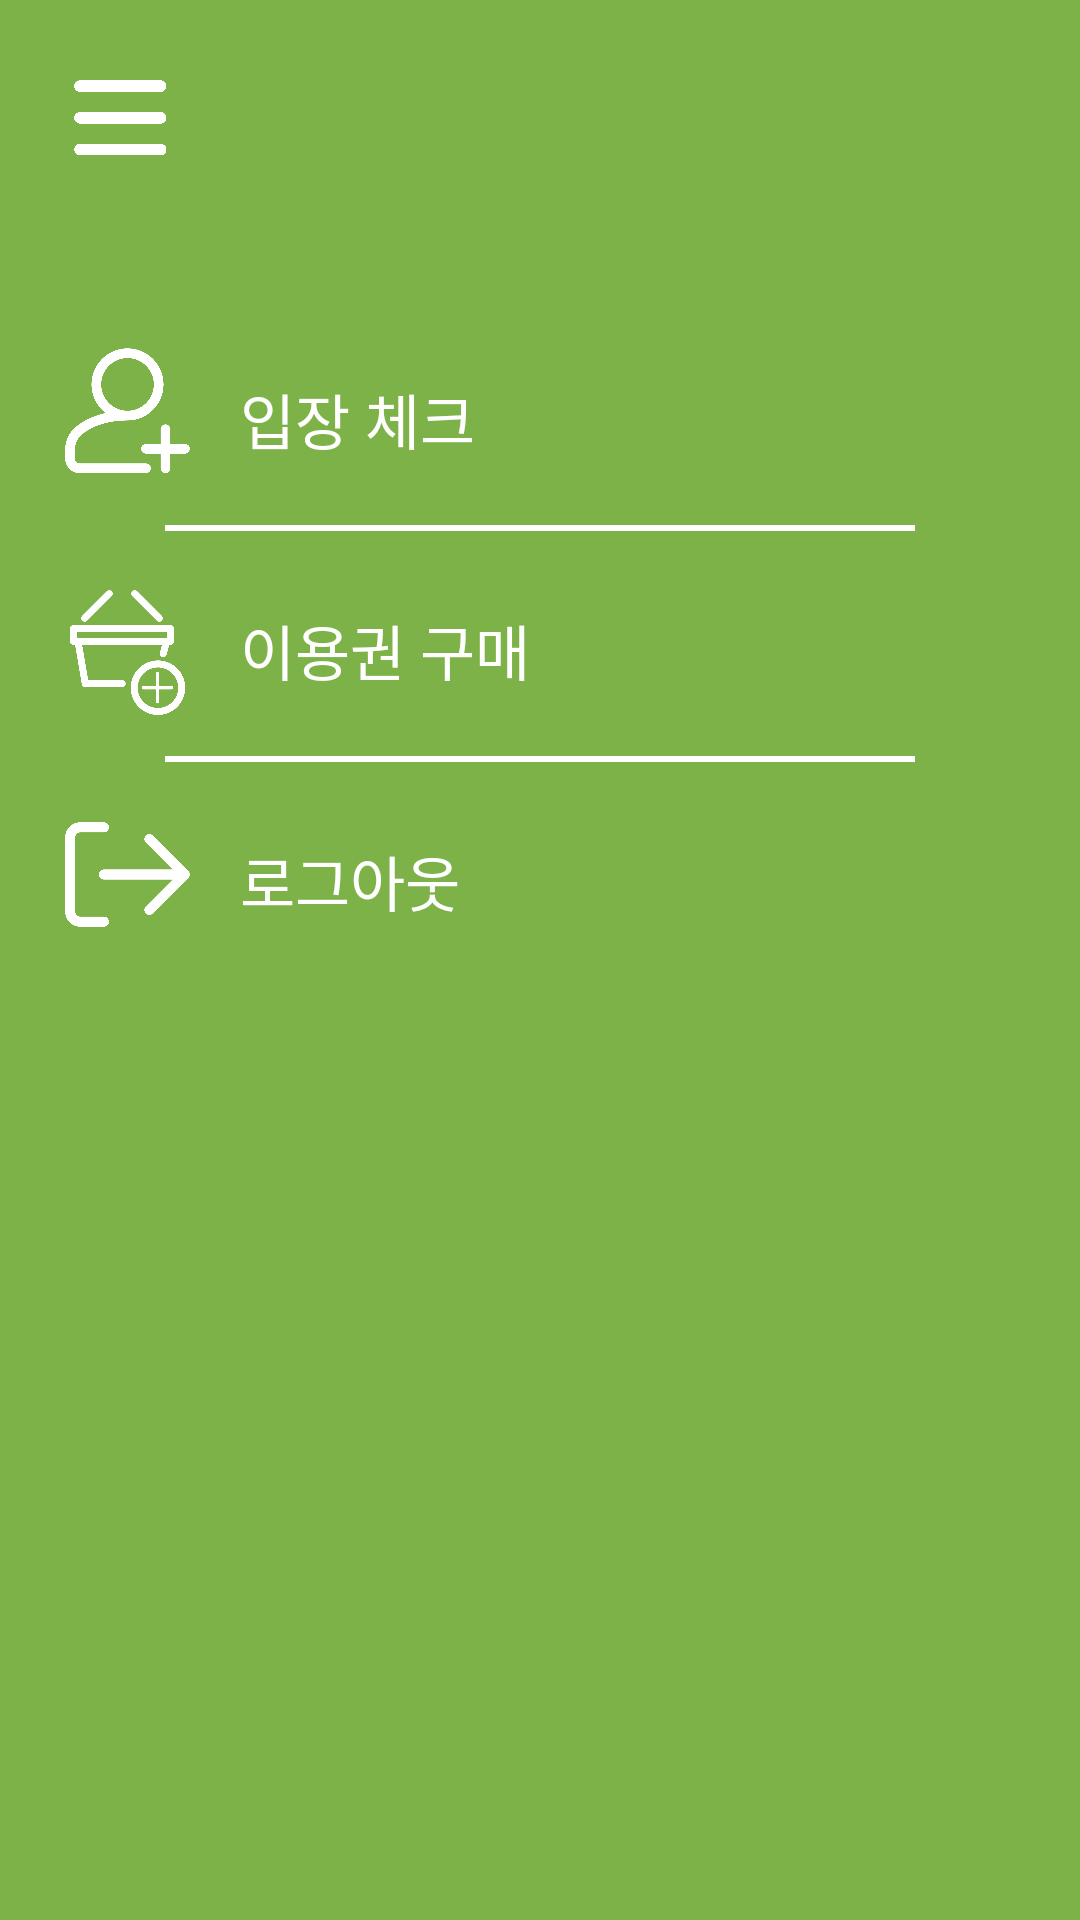

Where icons sit on this 1080×1920 app screen, as region(x1, y1, x2, y2):
goods buy: region(70, 590, 185, 715)
menubar: region(74, 80, 166, 155)
